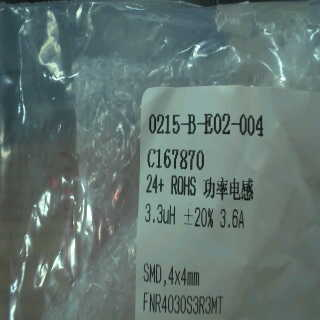3.3uH: (141, 196, 176, 234)
